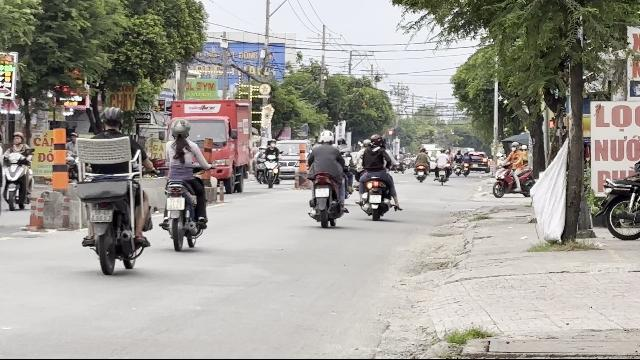helmet: (99, 106, 123, 132), (170, 118, 190, 138), (320, 130, 334, 142)
licenseplate: (90, 208, 112, 222), (168, 197, 185, 210), (316, 188, 328, 197)
motorcyclist: (73, 101, 153, 273), (158, 118, 210, 250), (305, 128, 349, 228)
